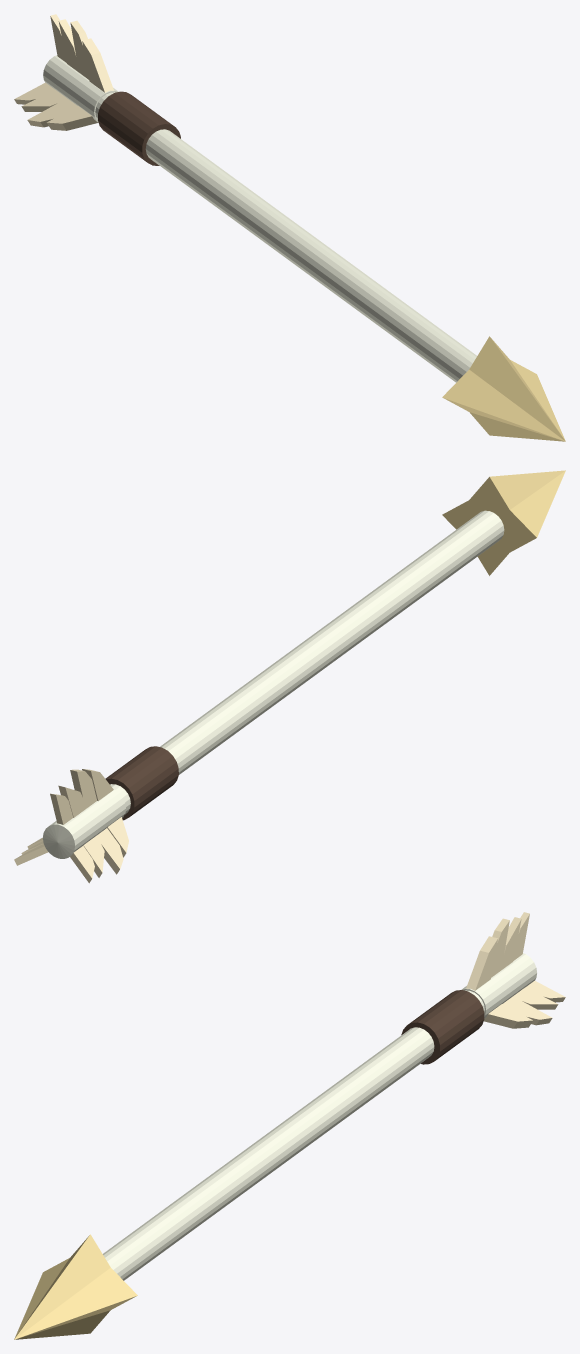
File: Arrow_3.fbx
3 renders of one model, top to bottom at view 1: azimuth 30°, elevation 25°; view 2: azimuth 150°, elevation 25°; view 3: azimuth 330°, elevation 25°, orthographic.
Parts seen in each view (by area): view 1: polySurface471; view 2: polySurface471; view 3: polySurface471.
Part boxes in pixels (x1,y1,x2,y2): polySurface471: (14,14,565,441); polySurface471: (14,470,565,883); polySurface471: (14,912,565,1339).
Size of the model in its own units: 0.1186 by 0.131 by 1.11.
